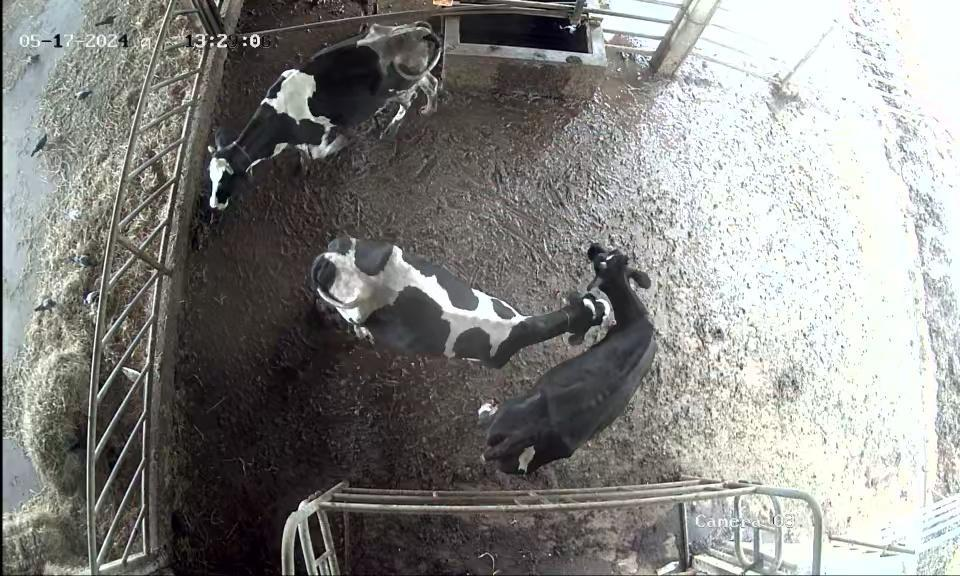stand: (183, 13, 455, 231), (474, 229, 690, 471), (305, 232, 604, 369)
